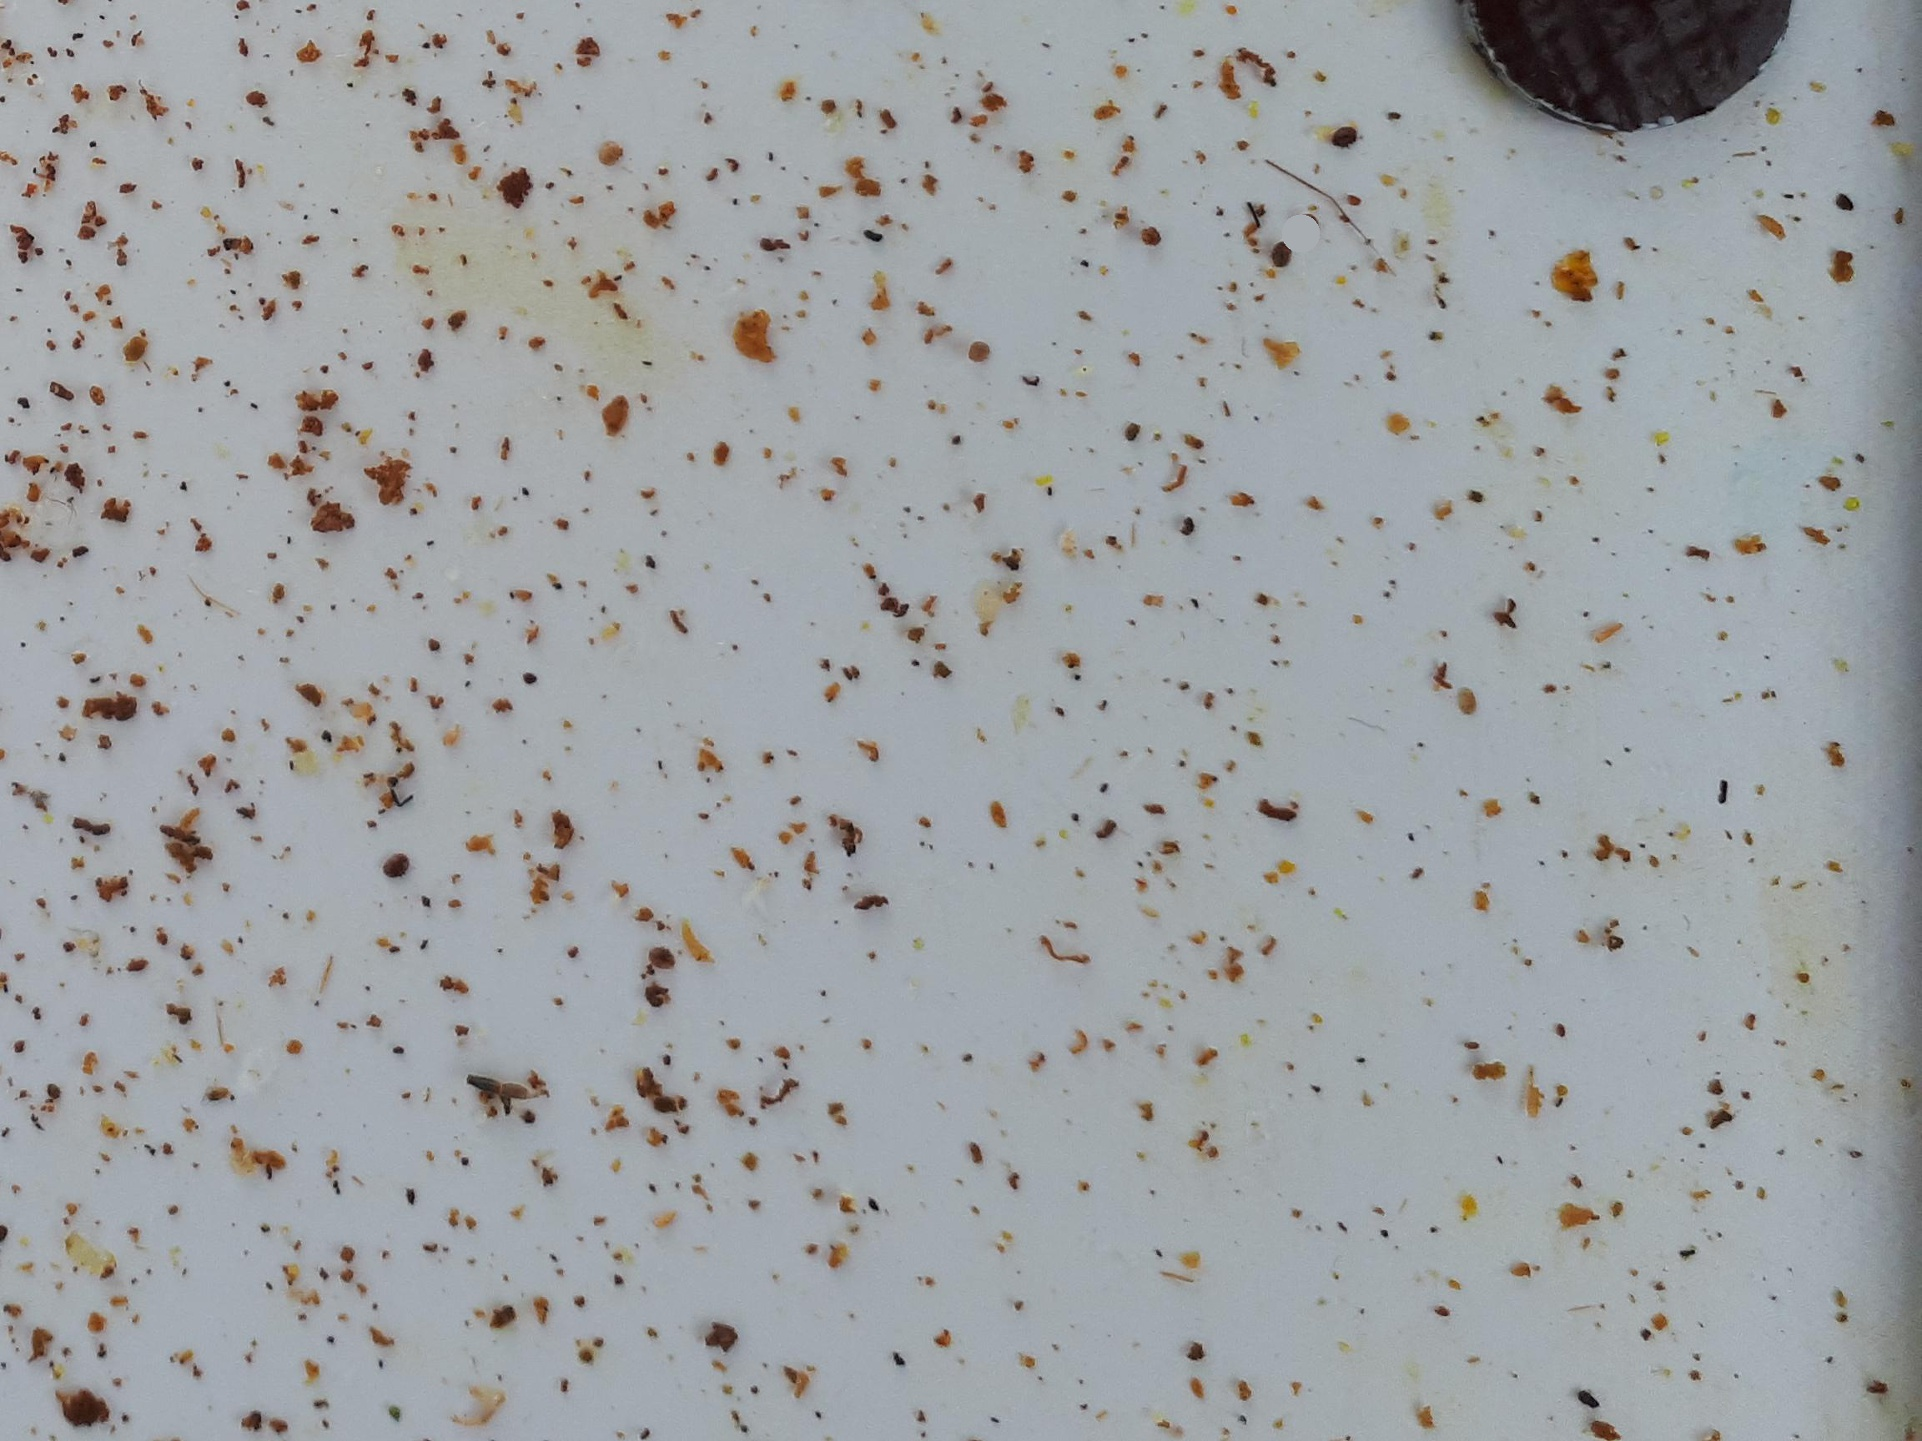Varroa: (104, 690, 142, 730), (1323, 121, 1359, 157), (386, 839, 422, 875), (380, 860, 415, 895), (1270, 235, 1305, 269), (646, 946, 680, 979)
